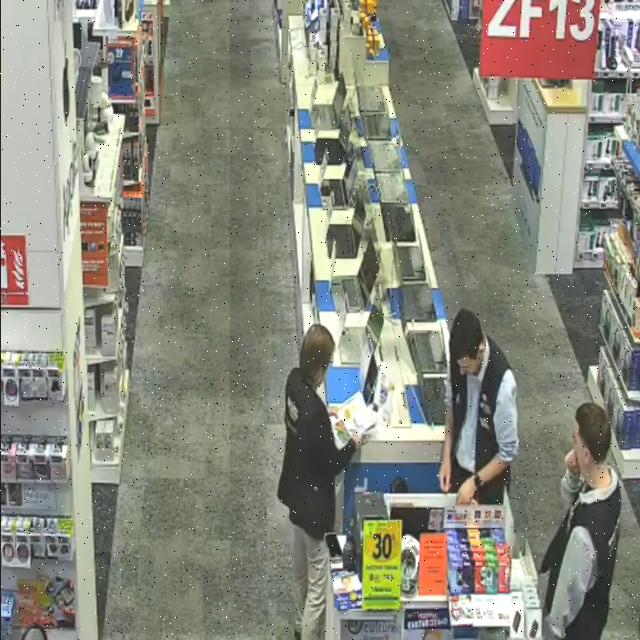hands: (458, 478, 476, 505), (438, 456, 451, 493), (564, 449, 580, 474), (352, 434, 362, 450), (329, 409, 338, 420)
person: (278, 325, 361, 639), (542, 403, 621, 639), (439, 309, 518, 504)
